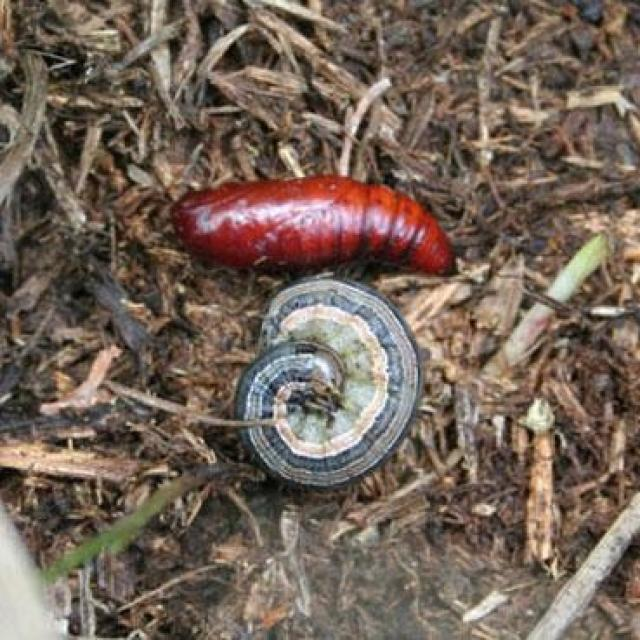army worm: (235, 276, 430, 495), (161, 179, 486, 289)
